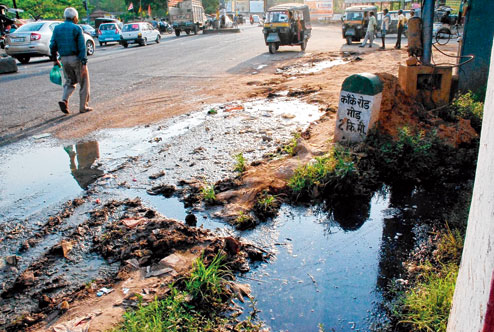person: (43, 2, 101, 121), (379, 6, 391, 54), (363, 8, 376, 50), (396, 8, 407, 52)
vegetation: (130, 261, 218, 332), (405, 232, 463, 332), (389, 117, 476, 171), (286, 149, 358, 187)
water: (238, 162, 418, 332), (3, 139, 120, 191), (140, 189, 234, 235), (250, 93, 327, 127), (293, 55, 355, 72)
